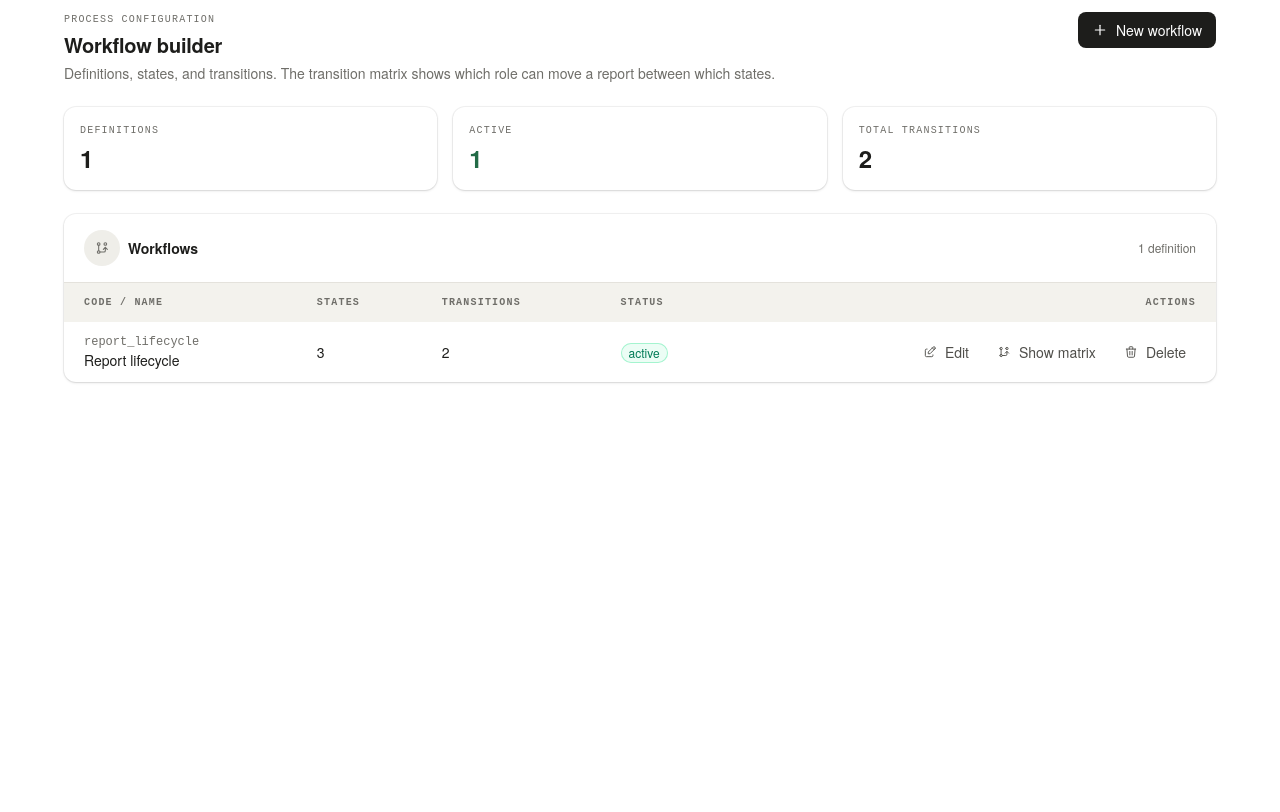
Test: AdminWorkflows (T-M12-019) › reveals the transition matrix when show matrix is clicked
The width and height of the screenshot is (1280, 812).
Click the button "Show matrix".
click(1046, 352)  # box [987, 338, 1106, 366]
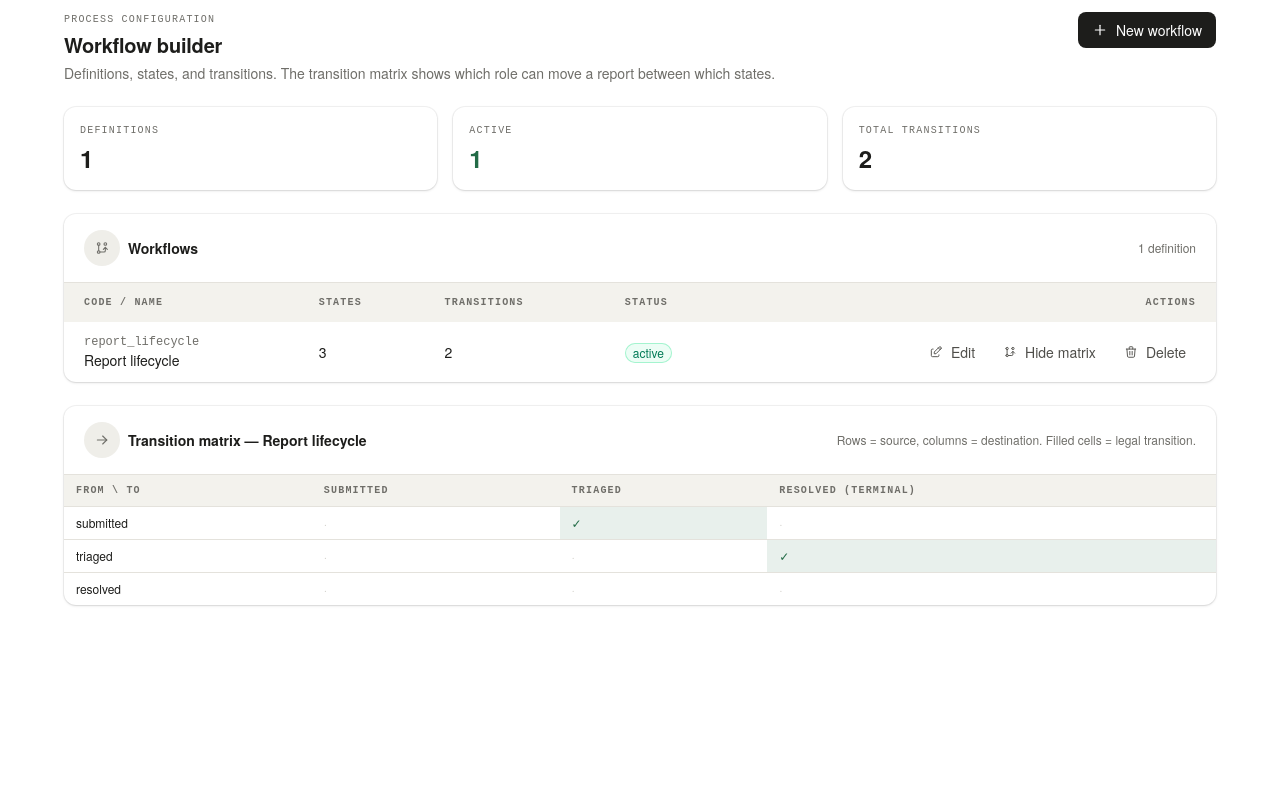
Check: the heading "Transition matrix — Report lifecycle" is shown, box [128, 430, 367, 450]
Check: the column heading "resolved (terminal)" is shown, box [767, 475, 1216, 506]
